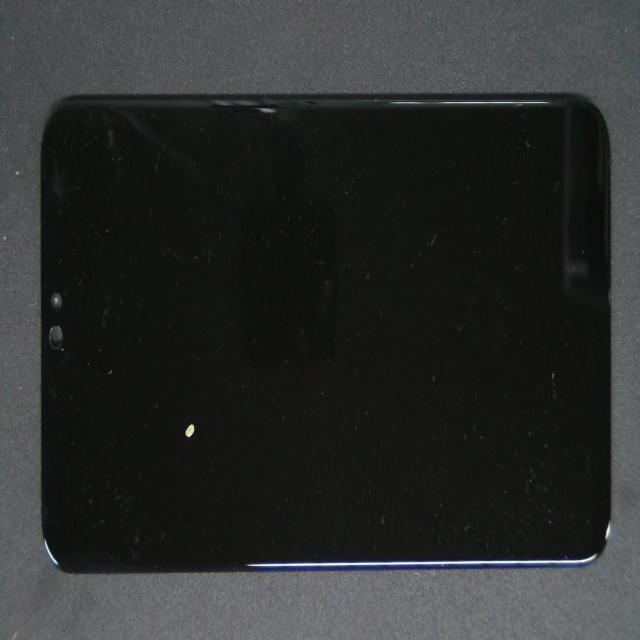stain: (128, 243, 306, 630)
